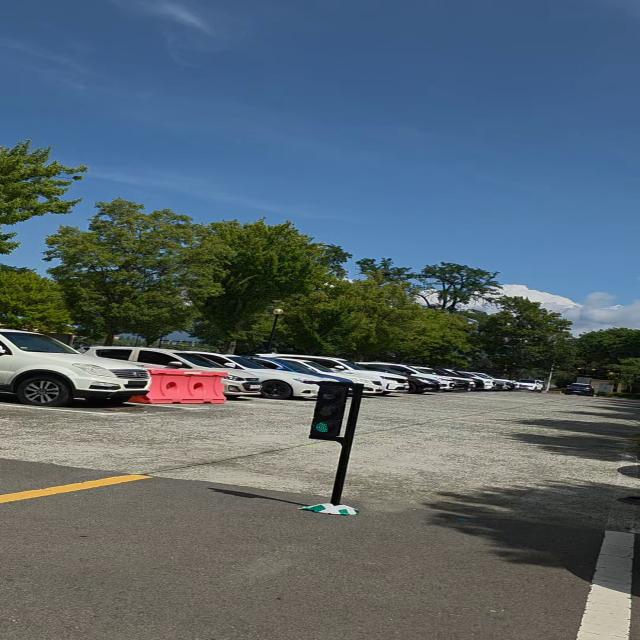green: (308, 381, 357, 439)
